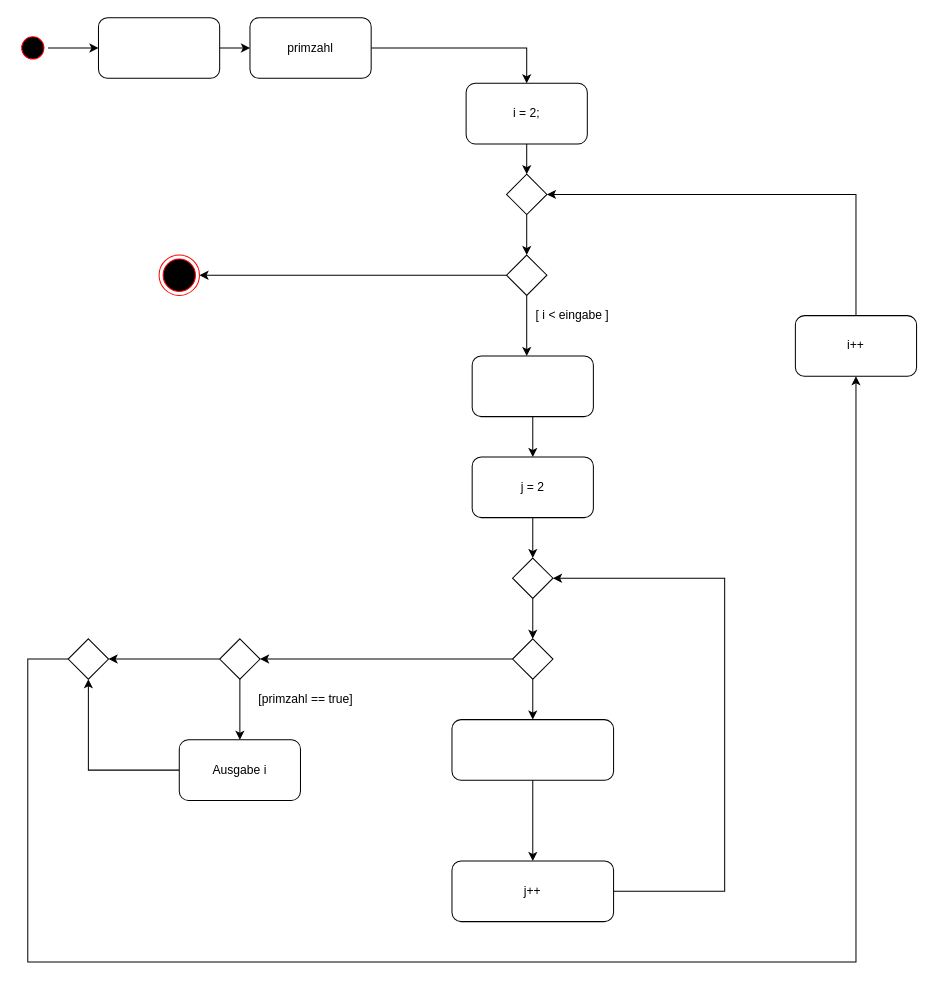
This 934x988 diagram has some shape labels left out. The centre of each missing label's shape, as x and y in pixels:
"eingabe" belongs at point (158, 47).
"primzahl = i % j != 0;" belongs at point (532, 749).
"Primzahl = true" belongs at point (532, 386).
